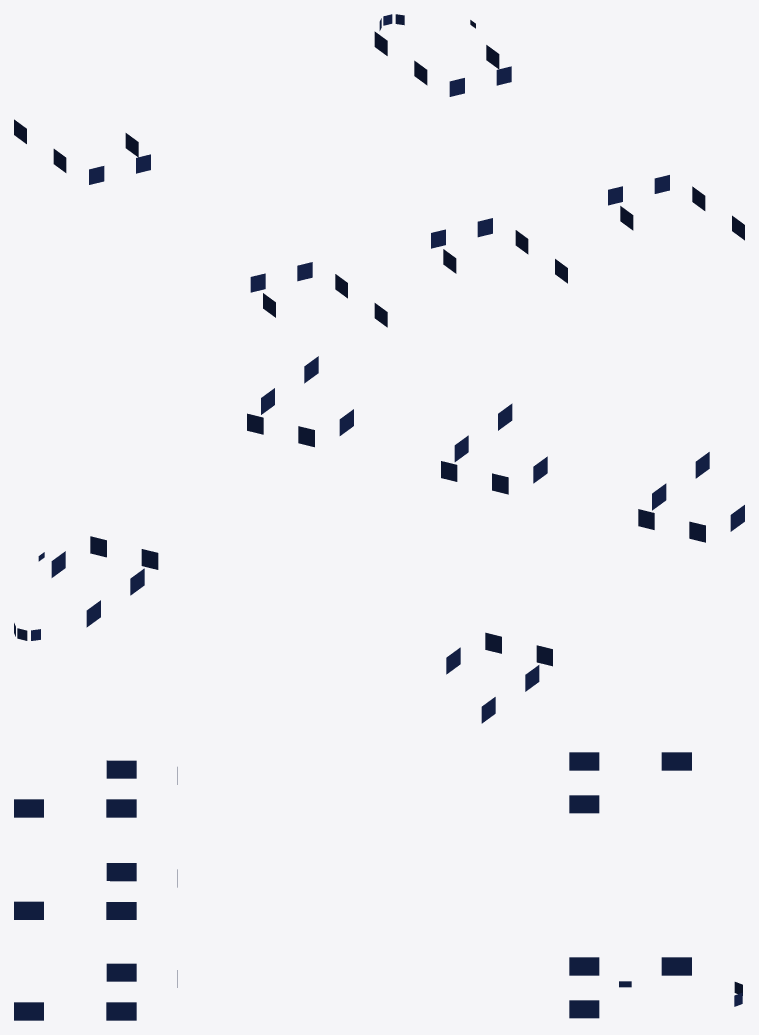
The model's file is ventanas.obj.
3 views of the same model, one above another, from view 1: azimuth 30°, elevation 25°; view 2: azimuth 150°, elevation 25°; view 3: azimuth 270°, elevation 25° (orthographic). The views are drawn at different scales.
Visible parts, largest first — view 1: Cube.021; view 2: Cube.021; view 3: Cube.021.
Boxes of the visible parts, box(x1,y1,x2,y2) form: Cube.021: box(14, 14, 744, 327); Cube.021: box(14, 356, 744, 723); Cube.021: box(14, 752, 742, 1020).
Bounding box in the file's own units: 65.91 × 4.67 × 81.39.
